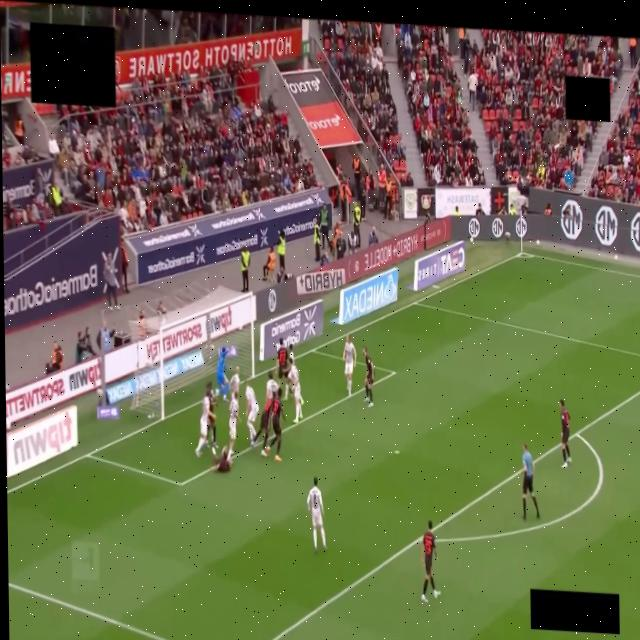player: (421, 521, 439, 602), (265, 388, 284, 462), (253, 393, 275, 456), (307, 477, 325, 553), (195, 382, 211, 457), (287, 363, 302, 424), (245, 385, 258, 446), (342, 335, 355, 395), (559, 400, 570, 468), (215, 348, 229, 401), (362, 347, 373, 407), (228, 395, 238, 456), (211, 447, 232, 472), (276, 338, 288, 381), (208, 392, 215, 449), (229, 367, 239, 401), (266, 371, 278, 399), (287, 344, 294, 369), (288, 344, 294, 365)
referee: (522, 444, 538, 520)
